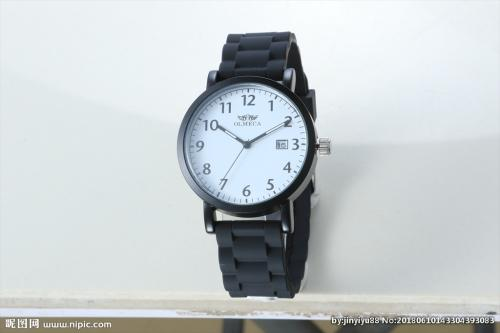watch: (163, 18, 340, 306)
